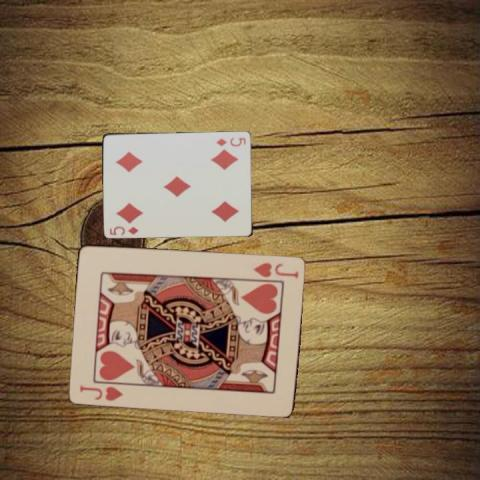5d: (107, 223, 140, 236), (214, 135, 248, 147)
Jh: (251, 259, 300, 280), (77, 382, 125, 402)
